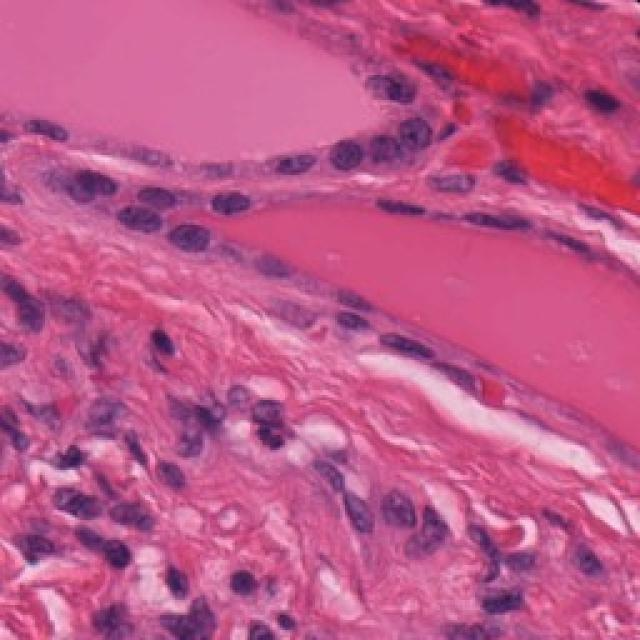normal: (259, 127, 329, 192), (13, 102, 80, 162), (458, 195, 540, 240), (385, 97, 440, 163), (60, 160, 130, 210), (317, 129, 368, 194), (366, 321, 426, 376), (161, 207, 216, 263), (206, 175, 262, 225), (482, 149, 540, 194), (116, 195, 161, 245)
